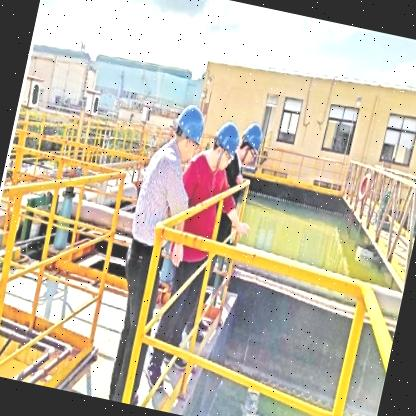capacete: (165, 101, 209, 168), (205, 115, 243, 174), (235, 117, 266, 169)
sem_colete_refletivo: (124, 136, 202, 258), (166, 148, 236, 262), (209, 154, 254, 248)
